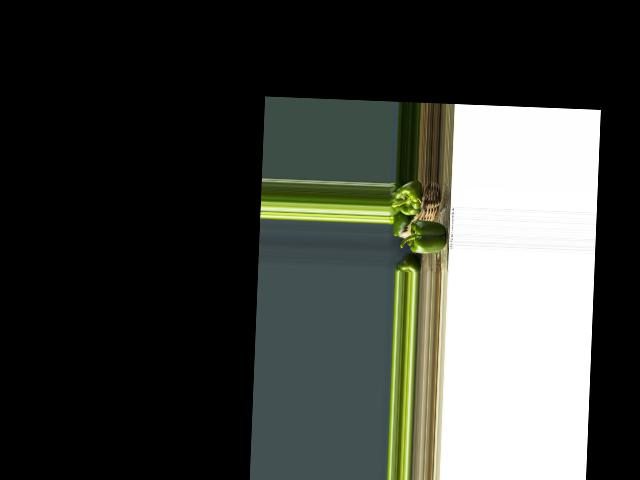bell_pepper: (395, 259, 416, 273)
